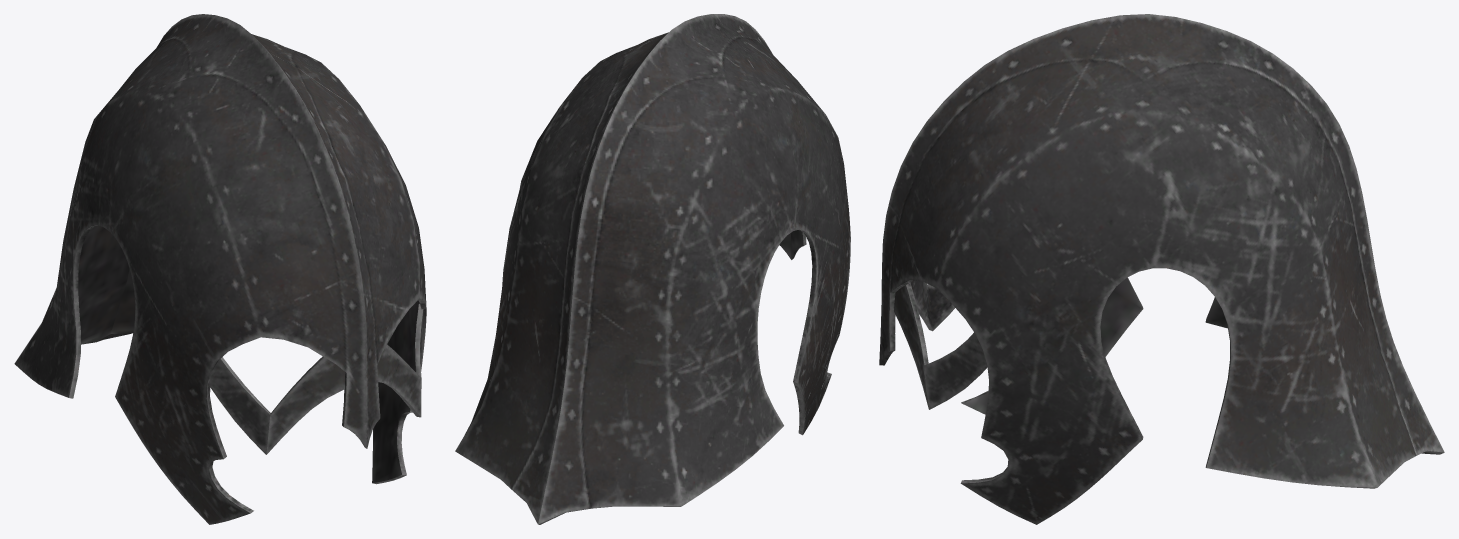
Rendered from sk_uruk_mordor_helmet_medium_a1.fbx.
3 views of the same model, side by side, from view 1: azimuth 30°, elevation 25°; view 2: azimuth 150°, elevation 25°; view 3: azimuth 270°, elevation 25° (orthographic). The views are drawn at different scales.
Visible parts, largest first — view 1: sk_uruk_mordor_helmet_medium_a1; view 2: sk_uruk_mordor_helmet_medium_a1; view 3: sk_uruk_mordor_helmet_medium_a1.
Boxes of the visible parts, left/top/right/bottom form: sk_uruk_mordor_helmet_medium_a1: left=14, top=14, right=426, bottom=524; sk_uruk_mordor_helmet_medium_a1: left=455, top=14, right=850, bottom=524; sk_uruk_mordor_helmet_medium_a1: left=879, top=14, right=1444, bottom=524.
Bounding box in the file's own units: 0.197 × 0.3154 × 0.2878.
Materials: 1 (1 with a texture image).
